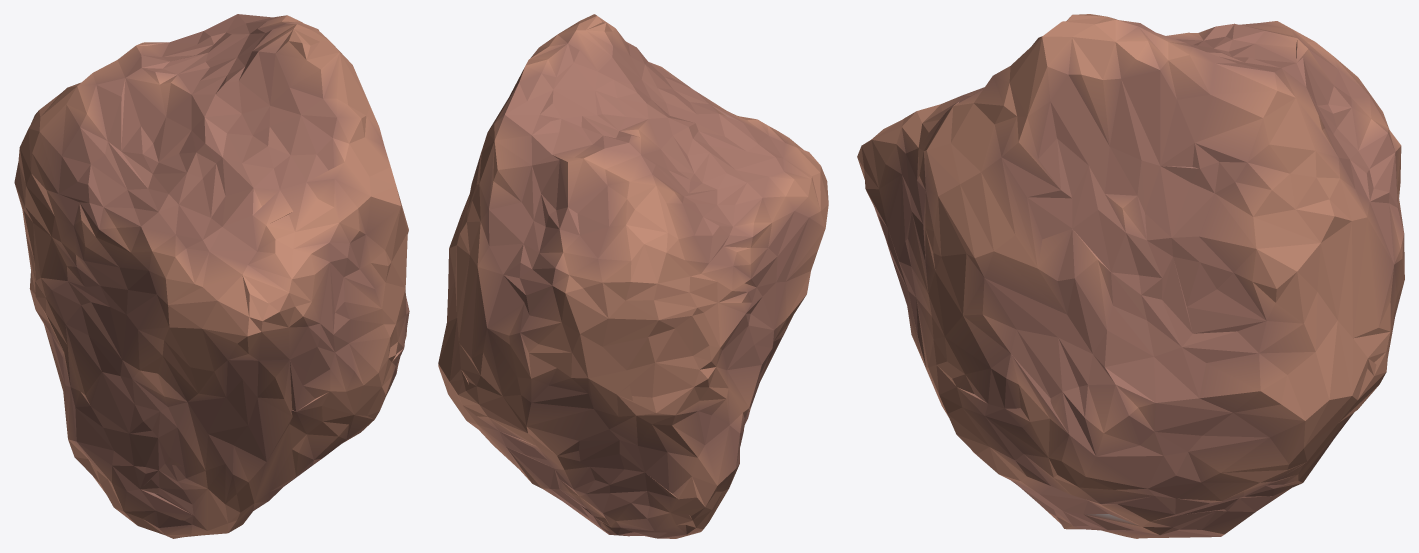
File: Meteorite4(broken).fbx
The picture shows the model from 3 angles, left to right: view 1: azimuth 30°, elevation 25°; view 2: azimuth 150°, elevation 25°; view 3: azimuth 270°, elevation 25°; orthographic projection. The views are drawn at different scales.
Visible parts, largest first — view 1: Meteorite5, Meteorite11, Meteorite8, Meteorite7, Meteorite6, Meteorite9; view 2: Meteorite9, Meteorite11, Meteorite8, Meteorite6, Meteorite5, Meteorite10; view 3: Meteorite10, Meteorite8, Meteorite5, Meteorite9, Meteorite7, Meteorite6.
Boxes of the visible parts, x1=… form: Meteorite5: x1=138, y1=162, x2=409, y2=470; Meteorite11: x1=14, y1=73, x2=177, y2=511; Meteorite8: x1=93, y1=14, x2=396, y2=234; Meteorite7: x1=124, y1=358, x2=399, y2=533; Meteorite6: x1=93, y1=476, x2=252, y2=538; Meteorite9: x1=170, y1=14, x2=245, y2=44; Meteorite9: x1=455, y1=101, x2=637, y2=461; Meteorite11: x1=602, y1=155, x2=817, y2=524; Meteorite8: x1=488, y1=14, x2=768, y2=198; Meteorite6: x1=467, y1=421, x2=711, y2=538; Meteorite5: x1=694, y1=90, x2=828, y2=380; Meteorite10: x1=438, y1=188, x2=498, y2=430; Meteorite10: x1=1057, y1=162, x2=1386, y2=503; Meteorite8: x1=942, y1=14, x2=1307, y2=280; Meteorite5: x1=857, y1=96, x2=1069, y2=434; Meteorite9: x1=1237, y1=42, x2=1404, y2=375; Meteorite7: x1=912, y1=337, x2=1149, y2=526; Meteorite6: x1=1052, y1=412, x2=1354, y2=538.
Bounding box in the file's own units: 1594 × 2570 × 2179.
